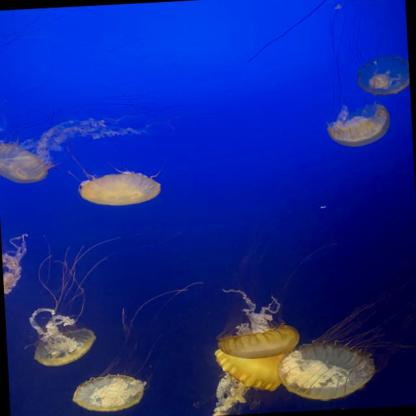jellyfish: (279, 335, 383, 402), (28, 321, 101, 373), (214, 344, 289, 392), (72, 372, 152, 415), (0, 137, 64, 186), (80, 170, 162, 208), (329, 102, 392, 148), (350, 53, 410, 98), (219, 323, 296, 358)
